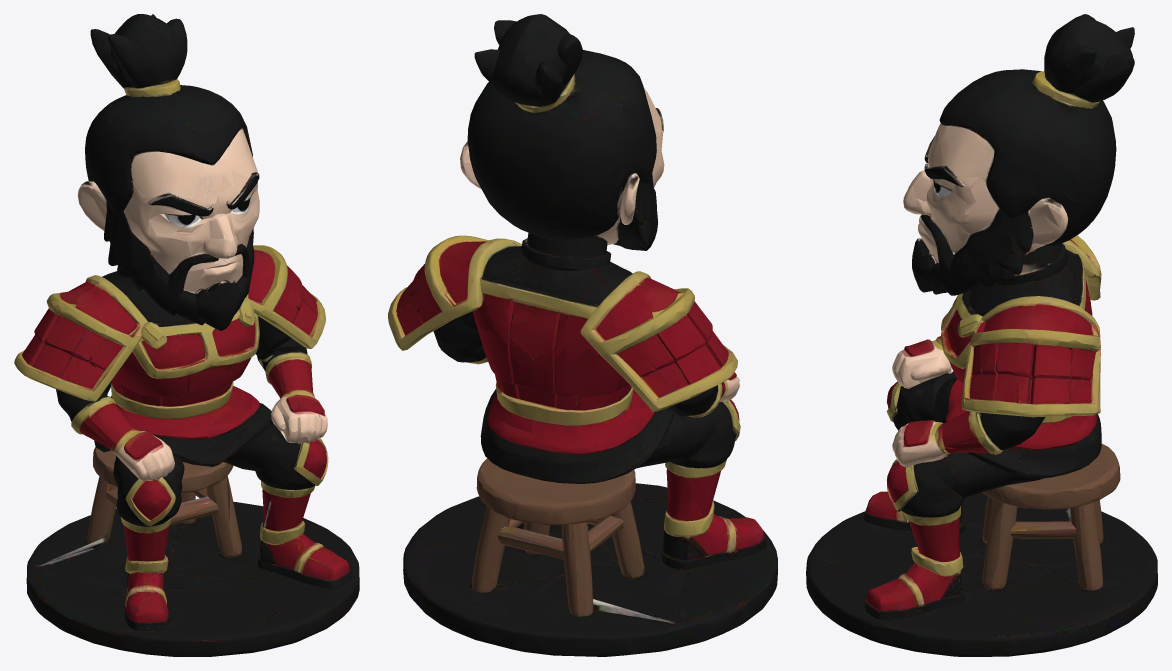
File: zhao2.glb
The picture shows the model from 3 angles, left to right: view 1: azimuth 30°, elevation 25°; view 2: azimuth 150°, elevation 25°; view 3: azimuth 270°, elevation 25°; orthographic projection. The views are drawn at different scales.
Parts seen in each view (by area): view 1: Mesh_0; view 2: Mesh_0; view 3: Mesh_0.
Boxes of the visible parts, x1,y1,x2,y2 form: Mesh_0: (14, 14, 359, 656); Mesh_0: (388, 14, 777, 656); Mesh_0: (806, 14, 1157, 656).
Bounding box in the file's own units: 1.09 × 1.9 × 1.07.
Materials: 1 (1 with a texture image).
